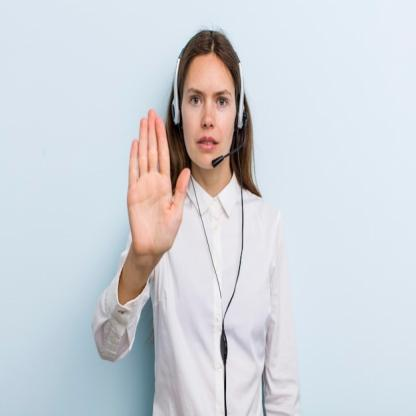stop: (126, 105, 192, 261)
